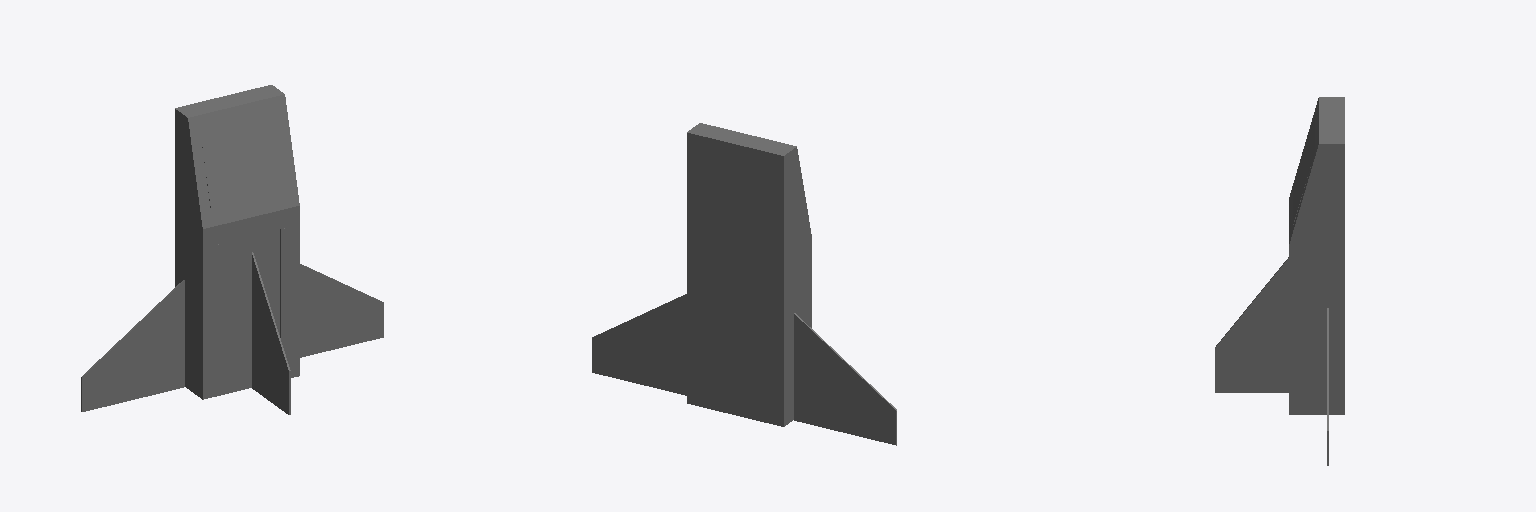
3 renders of one model, left to right at view 1: azimuth 30°, elevation 25°; view 2: azimuth 150°, elevation 25°; view 3: azimuth 270°, elevation 25°, orthographic.
Parts seen in each view (by area): view 1: Box002, Line001, Box003, Line002, Line003, Box004, Box005; view 2: Box002, Line001, Line002; view 3: Box002, Line003, Box003.
Part boxes in pixels (x1,y1,x2,y2): Box002: (175, 85, 299, 399); Line001: (81, 280, 184, 411); Box003: (200, 113, 287, 210); Line002: (300, 264, 383, 357); Line003: (252, 252, 290, 414); Box004: (216, 244, 222, 371); Box005: (280, 228, 286, 354); Box002: (687, 123, 811, 426); Line001: (794, 313, 896, 445); Line002: (592, 294, 686, 395); Box002: (1289, 97, 1344, 414); Line003: (1215, 257, 1288, 392); Box003: (1293, 117, 1314, 224).
Bounding box in the file's own units: 46.81 × 40.04 × 17.5.
3 materials, 1 textured.